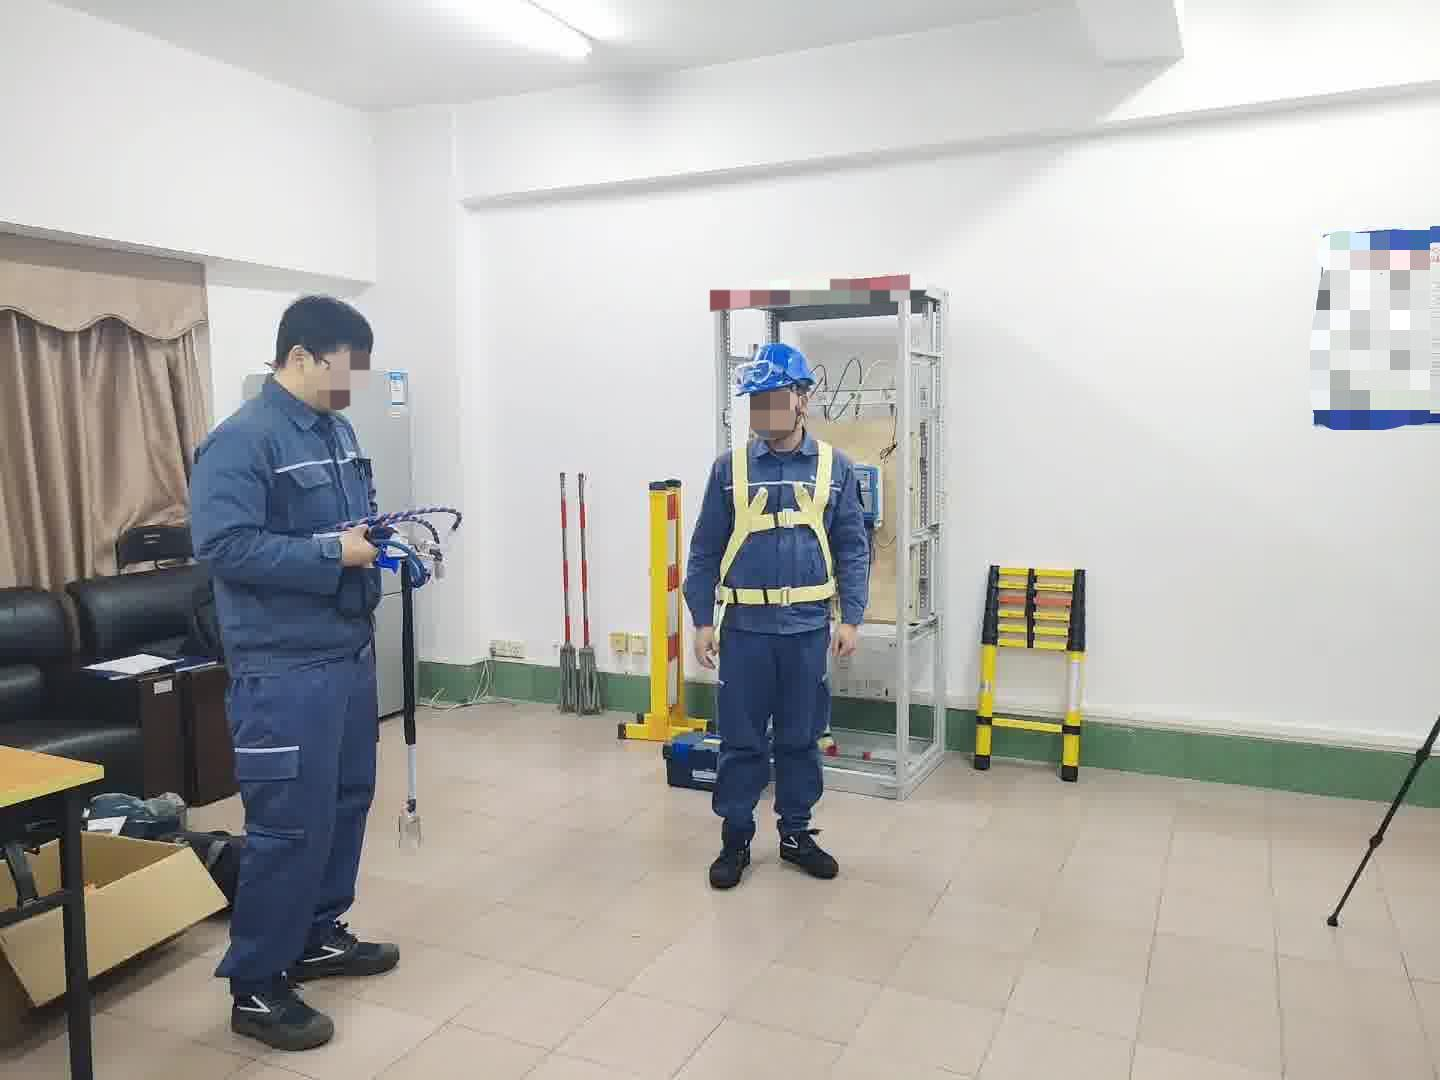halt: (738, 343, 821, 446)
inear: (790, 388, 818, 430)
noear: (283, 339, 322, 387)
unhalt: (273, 296, 381, 411)
